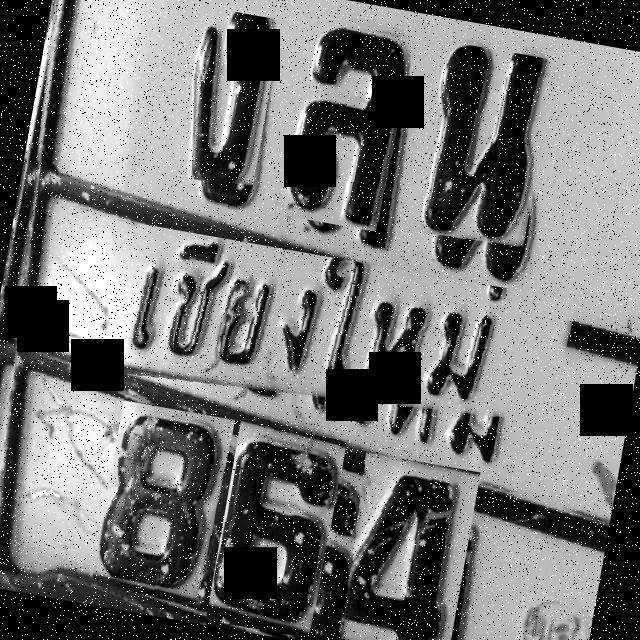letters: (402, 39, 560, 252), (276, 14, 416, 232), (206, 421, 346, 638), (90, 400, 234, 605), (332, 452, 480, 640), (165, 5, 282, 192)
license-plate: (0, 0, 640, 640)
province: (111, 222, 579, 450)
